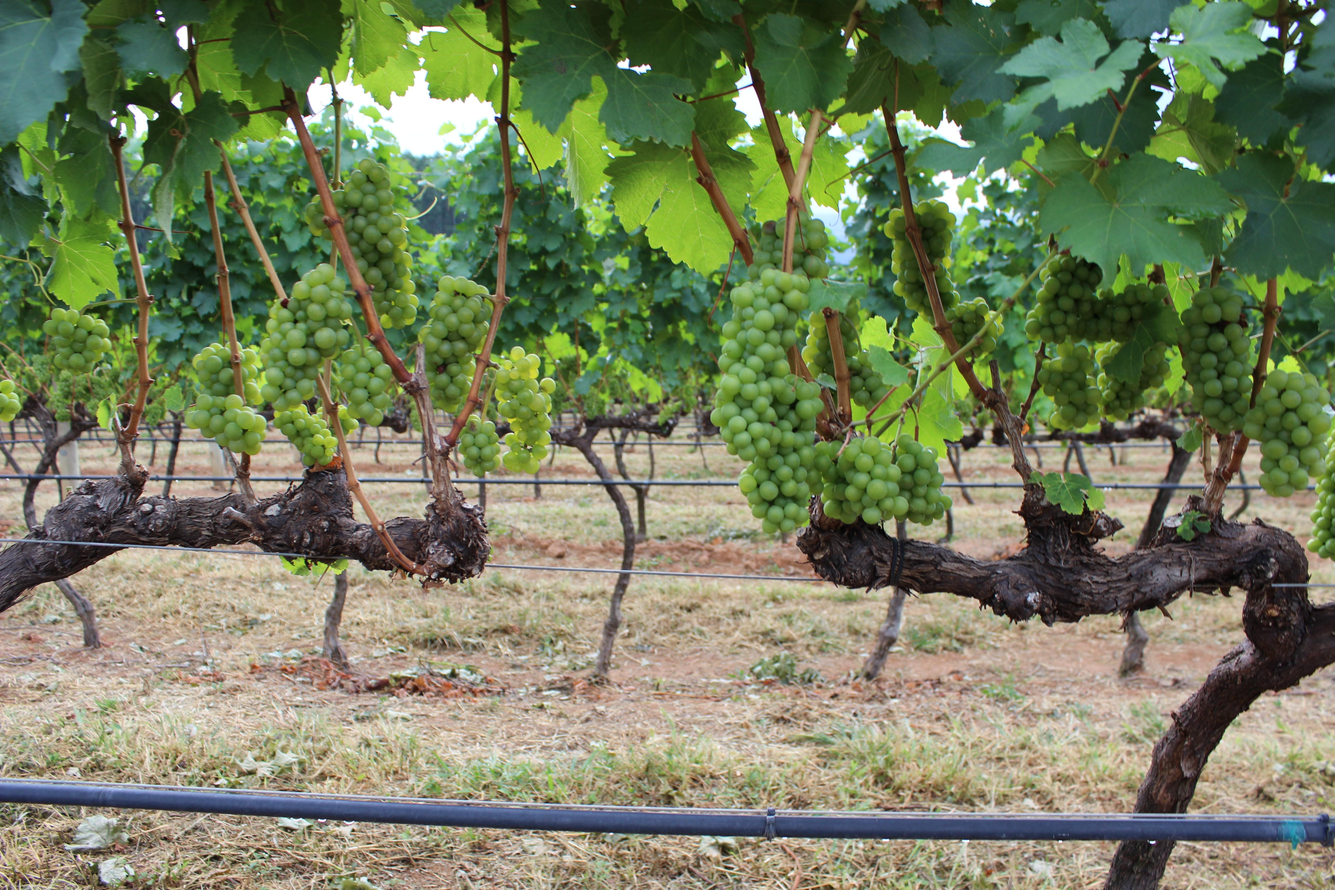leaf: (1040, 154, 1233, 277), (1217, 152, 1335, 279), (998, 18, 1142, 110), (0, 0, 88, 144), (623, 0, 745, 93), (230, 0, 343, 92), (752, 13, 853, 113), (1153, 0, 1264, 89), (915, 106, 1037, 175), (932, 3, 1015, 102), (1214, 54, 1295, 147), (418, 10, 499, 100), (0, 146, 47, 248), (115, 16, 188, 78), (347, 0, 406, 76), (80, 37, 123, 121), (879, 3, 934, 64), (1030, 471, 1103, 515), (1103, 0, 1187, 38), (1015, 0, 1100, 36), (808, 279, 867, 312), (494, 46, 500, 51), (859, 45, 861, 49), (381, 103, 387, 104), (924, 118, 926, 119), (377, 100, 378, 101)
